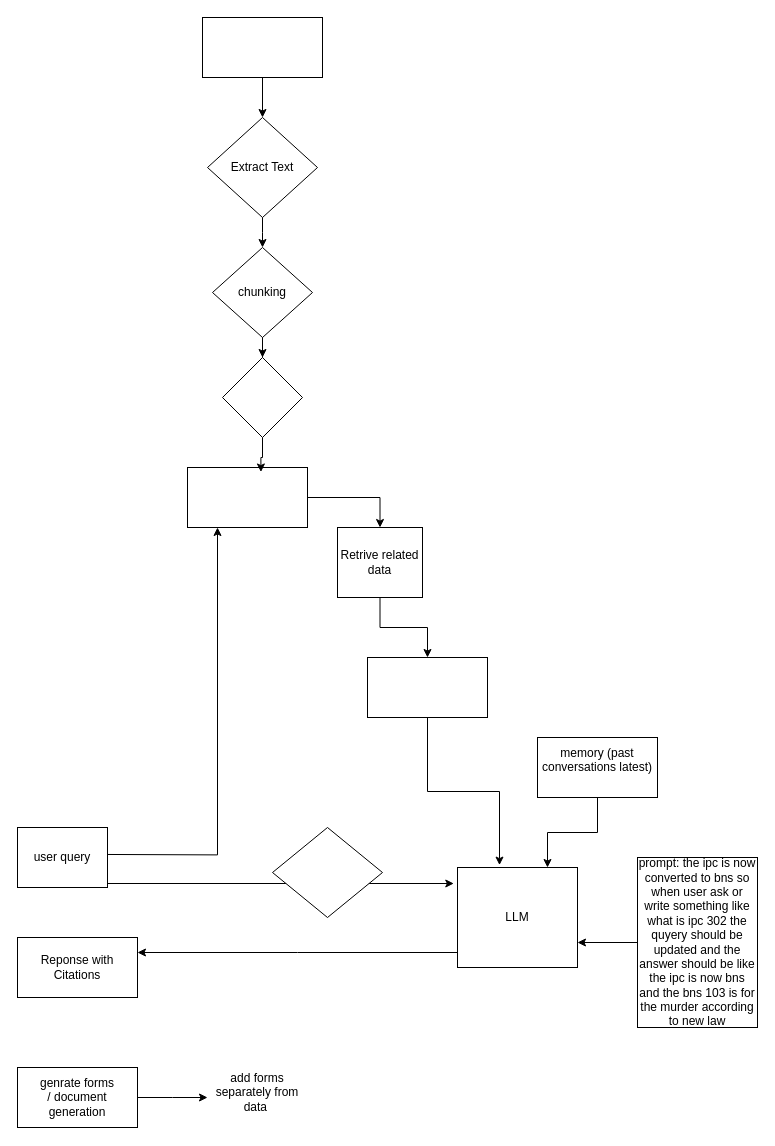
The diagram is 775 pixels wide and 1146 high, and some of its shapes have lost their labels. The box of each missing label's shape, as (x1, y1, x2, y2) in pixels:
chromadb: (186, 466, 308, 528)
Embeddings: (222, 356, 302, 438)
pdf: (202, 16, 322, 78)
Query Transformation: (272, 826, 382, 918)
Rerank: (366, 656, 488, 718)
